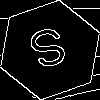S: (25, 25, 74, 79)
